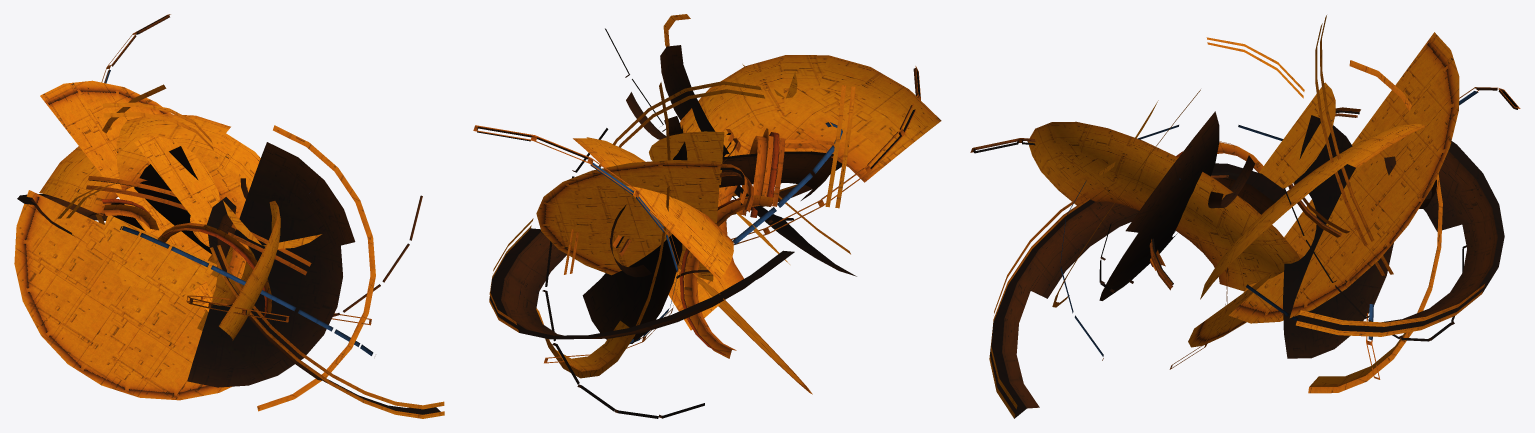
File: MonsterB_Die11.obj
The picture shows the model from 3 angles, left to right: view 1: azimuth 30°, elevation 25°; view 2: azimuth 150°, elevation 25°; view 3: azimuth 270°, elevation 25°; orthographic projection. The views are drawn at different scales.
Parts seen in each view (by area): view 1: Sphere001; view 2: Sphere001; view 3: Sphere001.
Part boxes in pixels (bbox=[...]): Sphere001: bbox=[14, 14, 444, 418]; Sphere001: bbox=[473, 14, 941, 418]; Sphere001: bbox=[970, 15, 1520, 418].
Bounding box in the file's own units: 210 × 193 × 315.
Materials: 1 (1 with a texture image).
